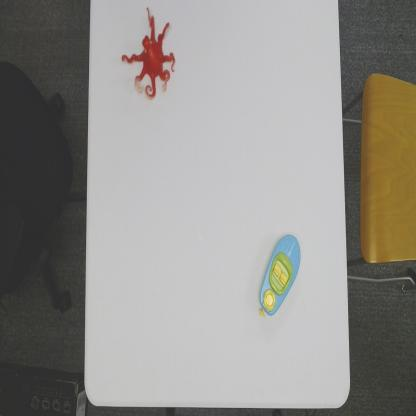Boat: (258, 232, 302, 320)
Octopus: (120, 5, 177, 102)
